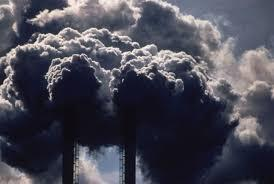smoke: (13, 16, 244, 156)
